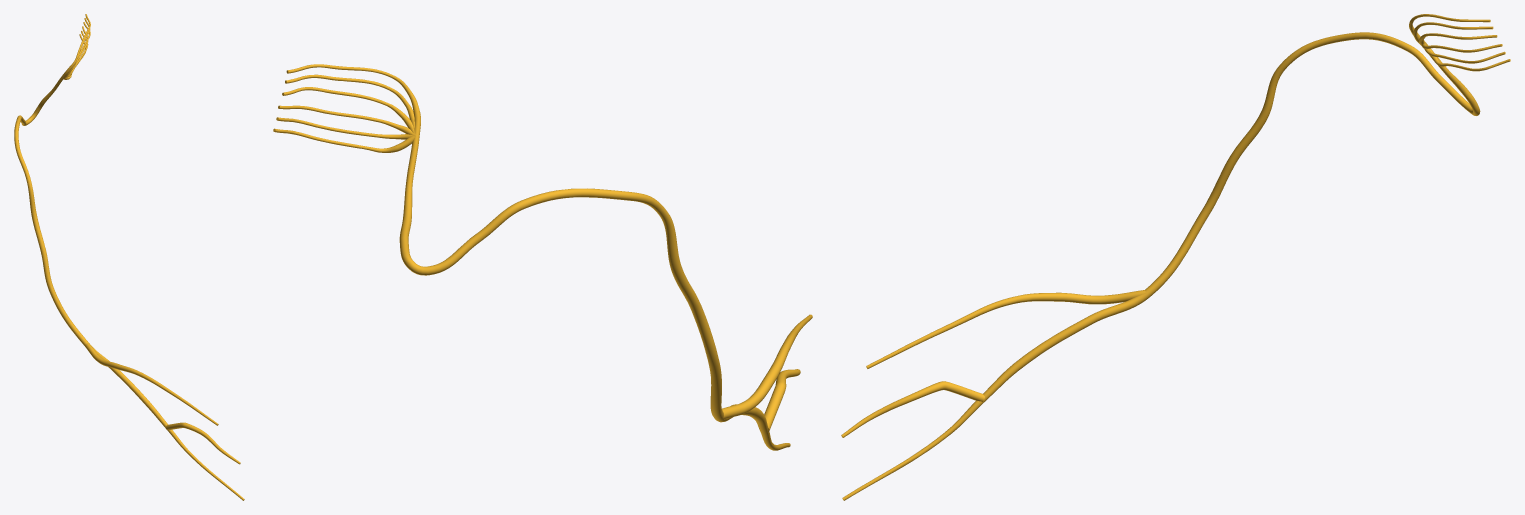
The model's file is nervoso-hypoglossal-nerve-xii-r.glb.
The picture shows the model from 3 angles, left to right: view 1: azimuth 30°, elevation 25°; view 2: azimuth 150°, elevation 25°; view 3: azimuth 270°, elevation 25°; orthographic projection. The views are drawn at different scales.
Parts seen in each view (by area): view 1: Hypoglossal nerve (XII).r; view 2: Hypoglossal nerve (XII).r; view 3: Hypoglossal nerve (XII).r.
Boxes of the visible parts, x1,y1,x2,y2 form: Hypoglossal nerve (XII).r: [14, 14, 244, 500]; Hypoglossal nerve (XII).r: [273, 64, 812, 450]; Hypoglossal nerve (XII).r: [841, 14, 1510, 500].
Size of the model in its own units: 0.0265 by 0.0645 by 0.0757.
